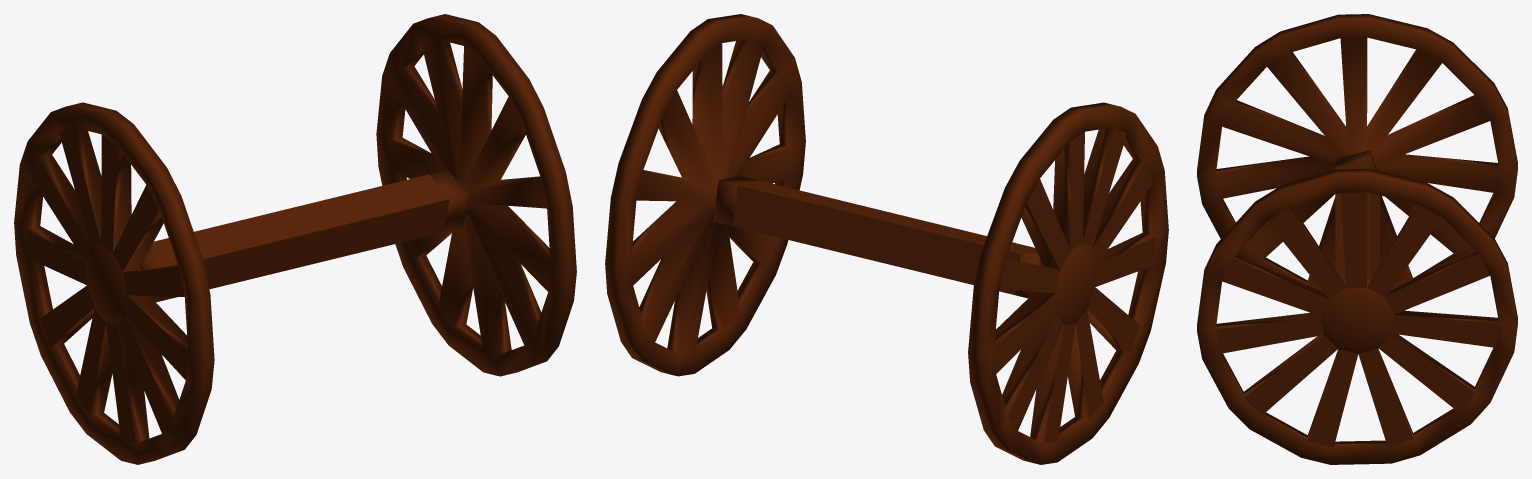
The model's file is cannon wheel.fbx.
3 renders of one model, left to right at view 1: azimuth 30°, elevation 25°; view 2: azimuth 150°, elevation 25°; view 3: azimuth 270°, elevation 25°, orthographic. The views are drawn at different scales.
Visible parts, largest first — view 1: Low_Poly_Cannon_Tube_009; view 2: Low_Poly_Cannon_Tube_009; view 3: Low_Poly_Cannon_Tube_009.
Part boxes in pixels (bbox=[...]): Low_Poly_Cannon_Tube_009: bbox=[14, 14, 576, 464]; Low_Poly_Cannon_Tube_009: bbox=[605, 14, 1168, 464]; Low_Poly_Cannon_Tube_009: bbox=[1197, 14, 1517, 464].
Bounding box in the file's own units: 3.37 × 2.74 × 2.76.
